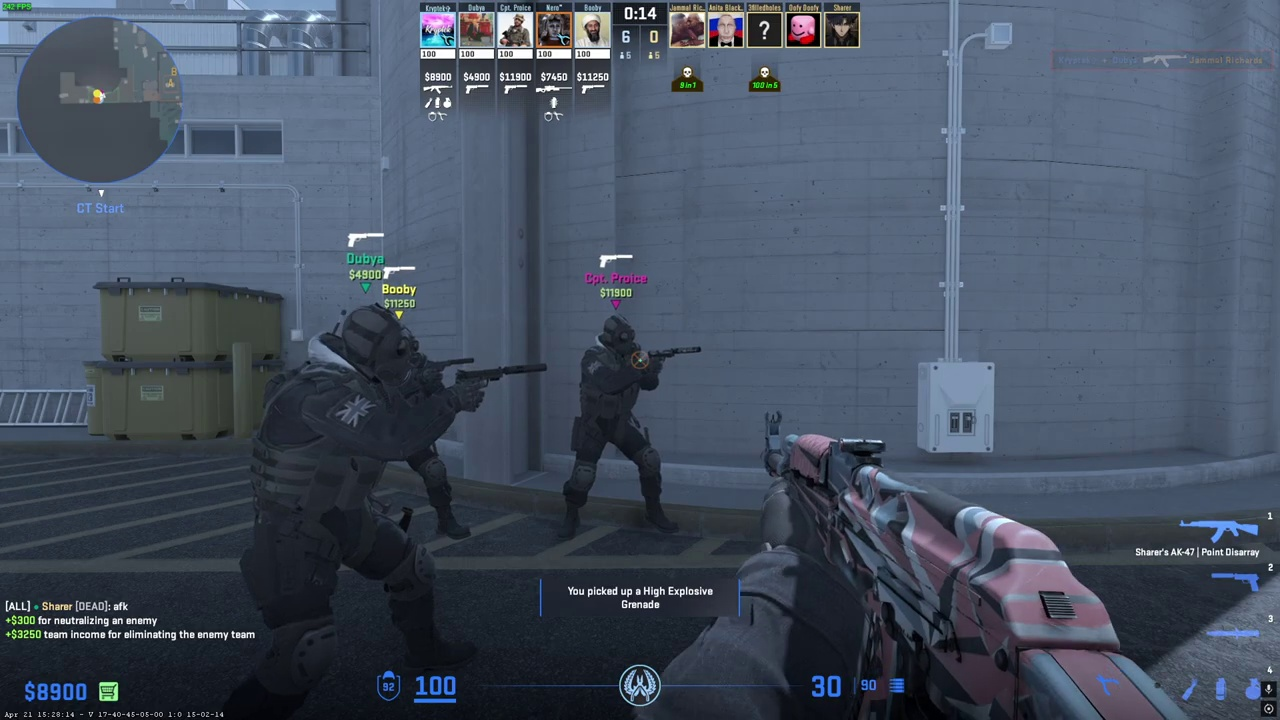CT: (237, 307, 475, 719), (561, 315, 672, 537)
